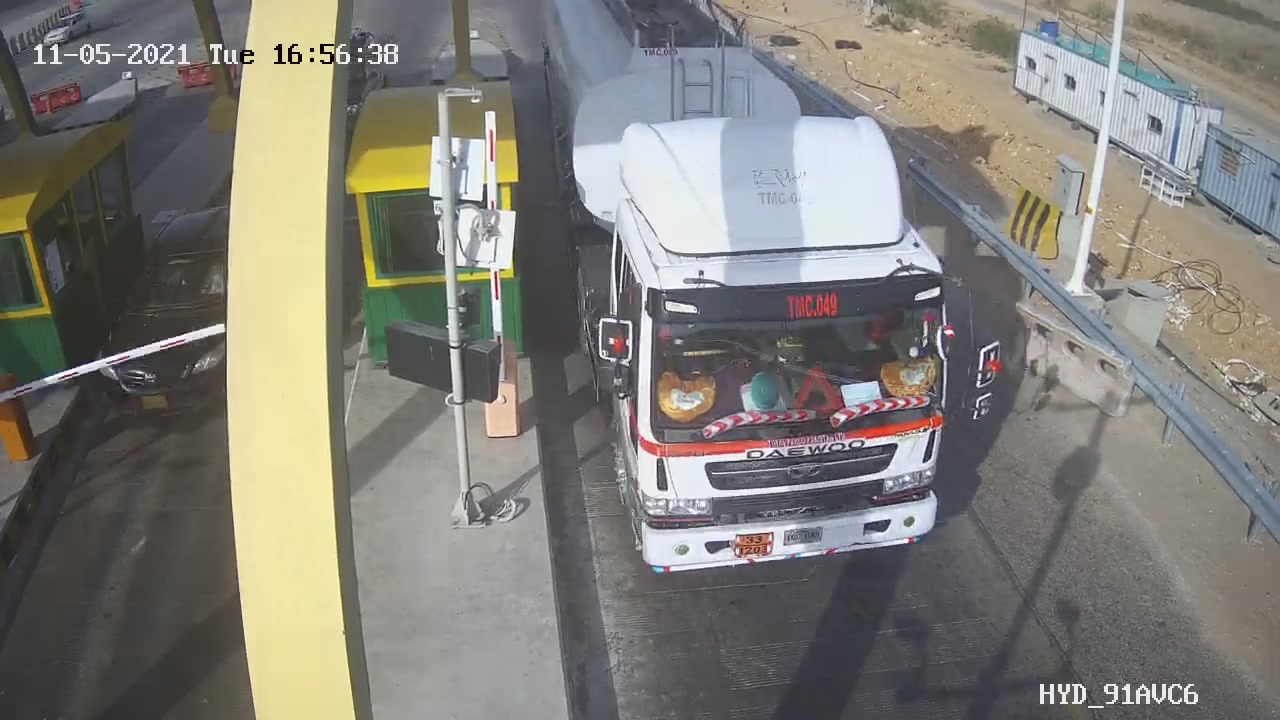F6: (525, 3, 1020, 600)
